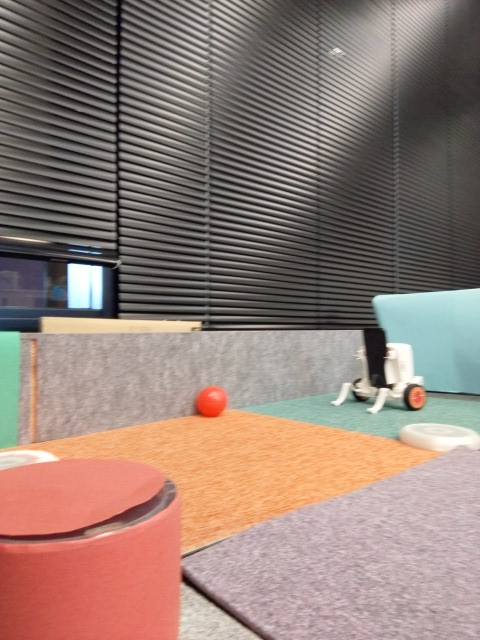f: (335, 327, 430, 414)
o: (397, 417, 480, 457)
